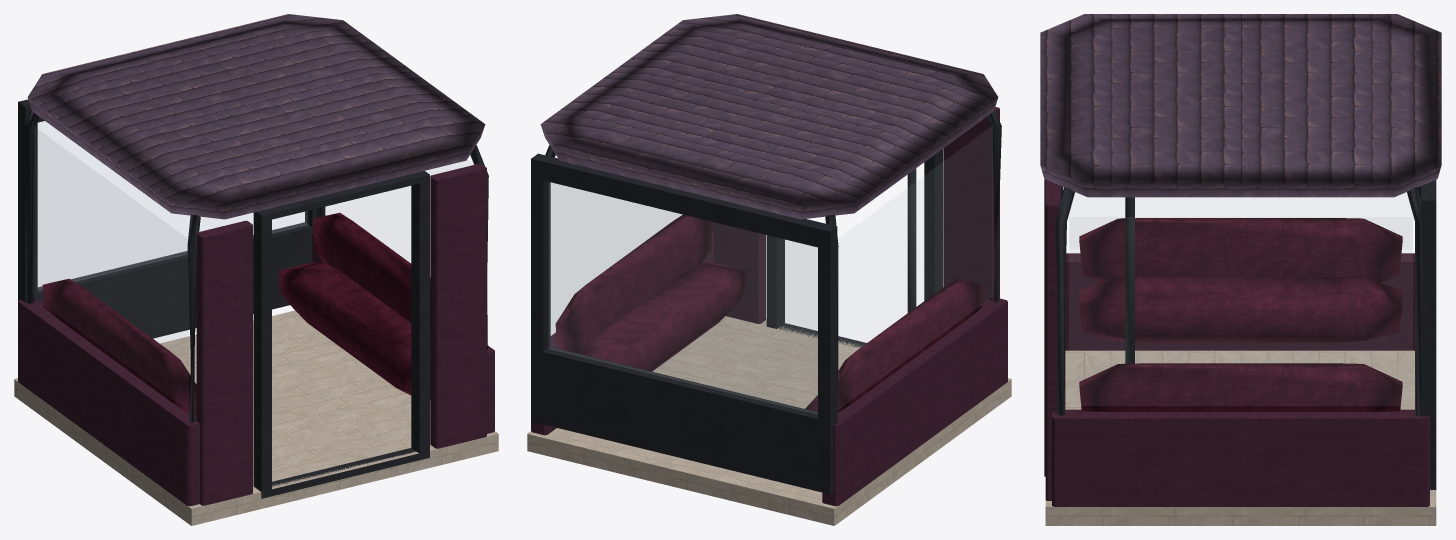
Rendered from ferris_cabin.glb.
3 views of the same model, side by side, from view 1: azimuth 30°, elevation 25°; view 2: azimuth 150°, elevation 25°; view 3: azimuth 270°, elevation 25° (orthographic). The views are drawn at different scales.
Parts seen in each view (by area): view 1: Rebuilt_ferris_cabin; view 2: Rebuilt_ferris_cabin; view 3: Rebuilt_ferris_cabin.
Part boxes in pixels (left/top/right/bottom): Rebuilt_ferris_cabin: left=14, top=14, right=498, bottom=525; Rebuilt_ferris_cabin: left=527, top=14, right=1011, bottom=525; Rebuilt_ferris_cabin: left=1040, top=14, right=1441, bottom=525.
Bounding box in the file's own units: 3.08 × 2.99 × 3.08.
Materials: 6 (5 with a texture image).
